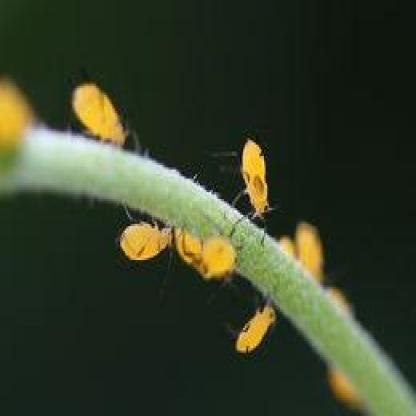aphid: (224, 138, 282, 229), (67, 77, 136, 151), (177, 219, 239, 278), (226, 296, 287, 355), (284, 213, 330, 286), (114, 210, 177, 261)
